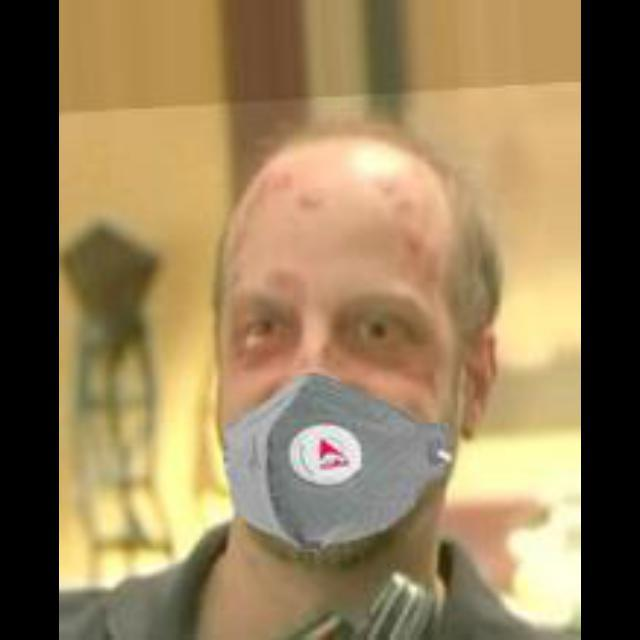suspicion: (175, 91, 483, 548)
